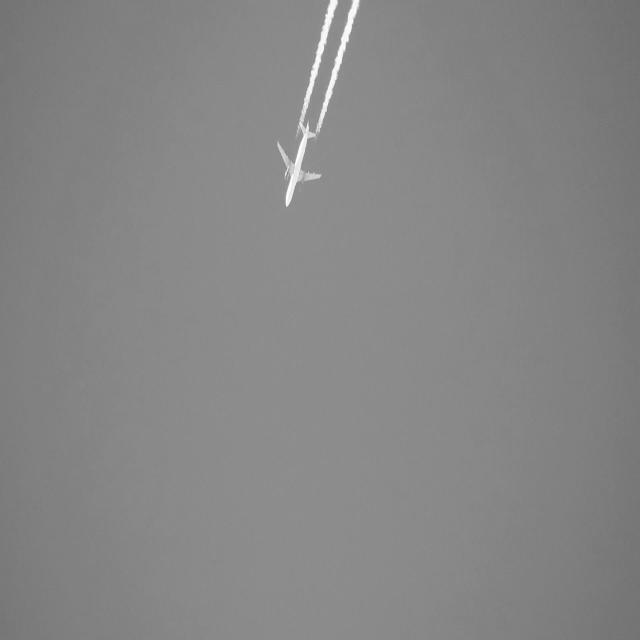aeroplane: (275, 117, 325, 210)
